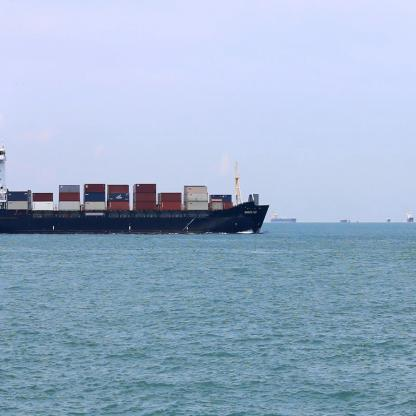Container Ship: (0, 158, 272, 235), (405, 207, 415, 227), (340, 214, 352, 228), (386, 212, 394, 224), (356, 213, 362, 228)
